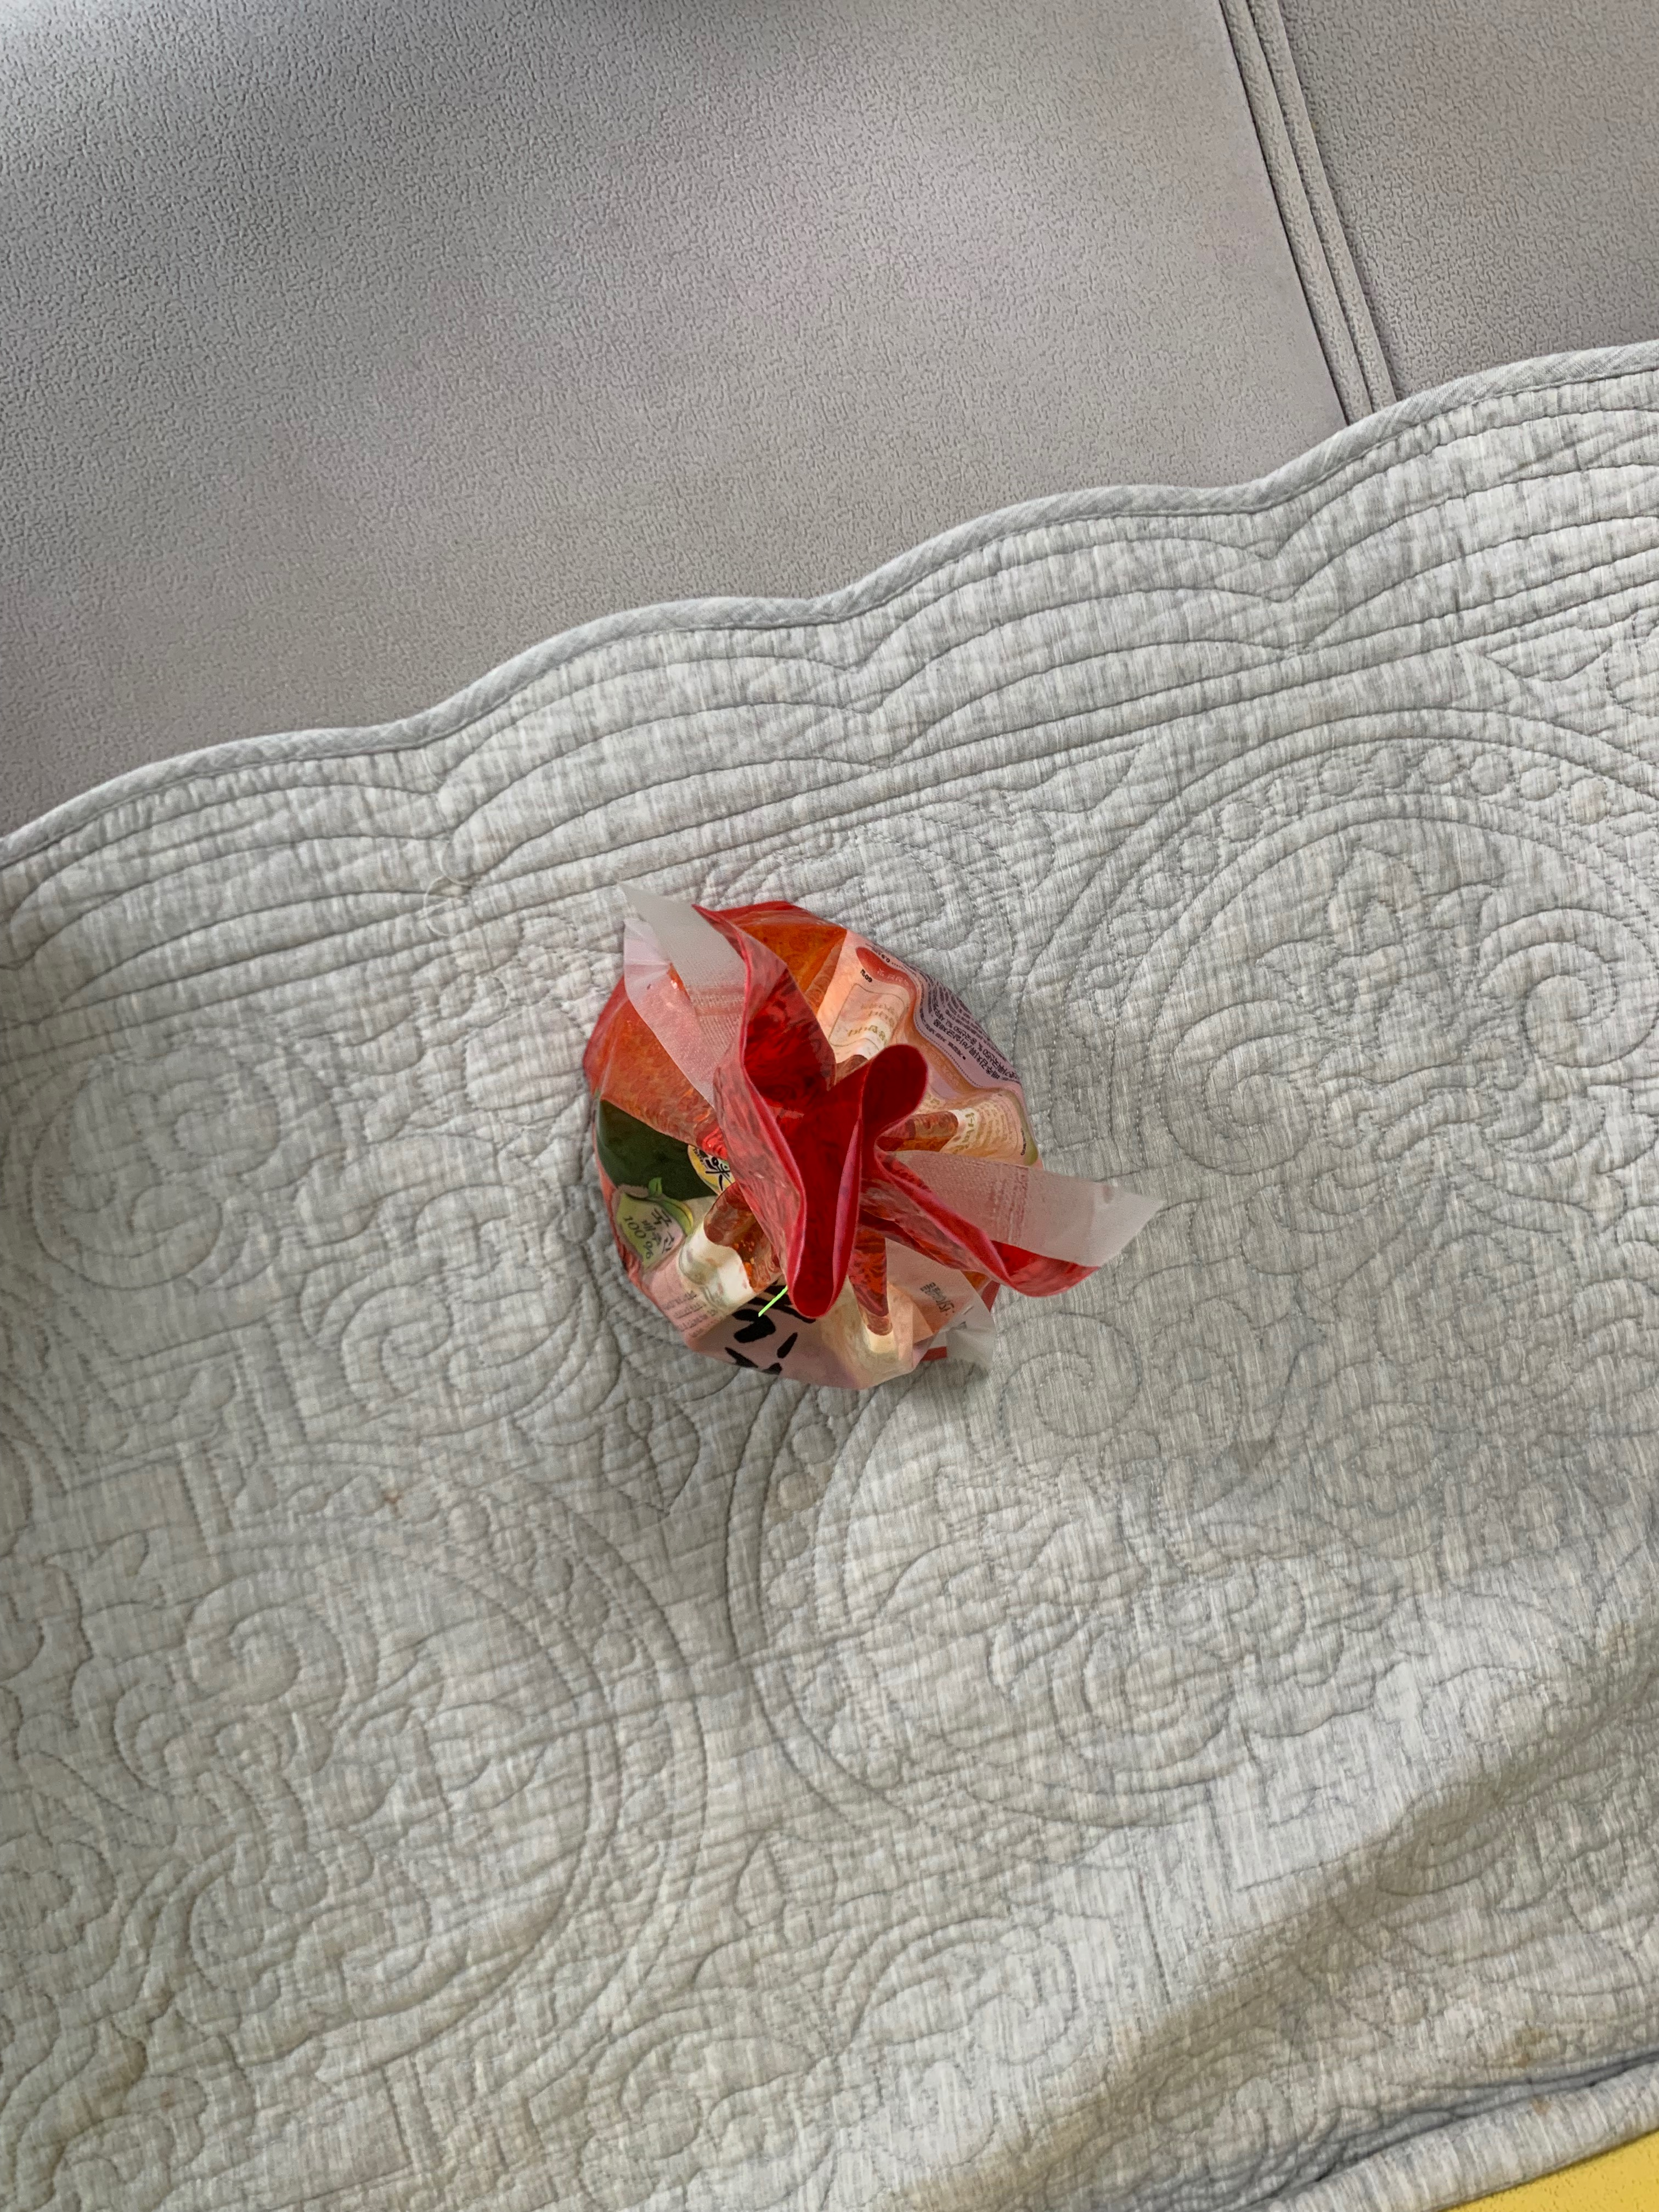kimchi: (586, 909, 1039, 1392)
